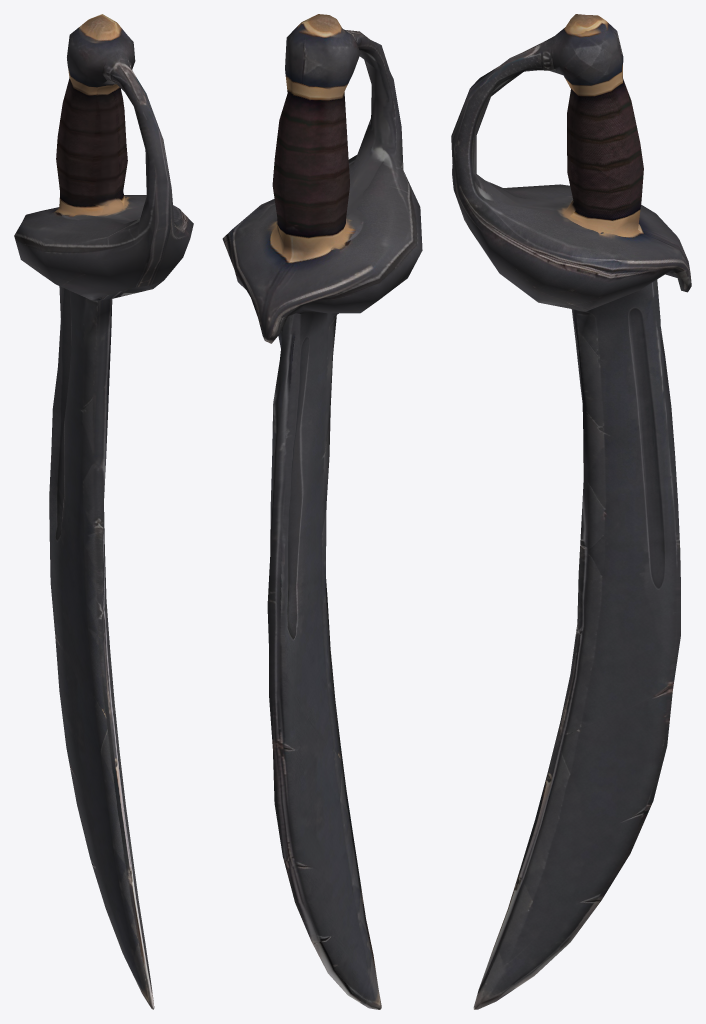
The model's file is cutlass.glb.
3 views of the same model, side by side, from view 1: azimuth 30°, elevation 25°; view 2: azimuth 150°, elevation 25°; view 3: azimuth 270°, elevation 25° (orthographic). The views are drawn at different scales.
Parts seen in each view (by area): view 1: tripo_node_f8851aa2; view 2: tripo_node_f8851aa2; view 3: tripo_node_f8851aa2.
Boxes of the visible parts, x1=… form: tripo_node_f8851aa2: x1=14, y1=14, x2=193, y2=1009; tripo_node_f8851aa2: x1=222, y1=14, x2=422, y2=1009; tripo_node_f8851aa2: x1=451, y1=14, x2=691, y2=1009.
Size of the model in its own units: 0.137 by 0.8 by 0.1754.
1 material, 1 textured.
